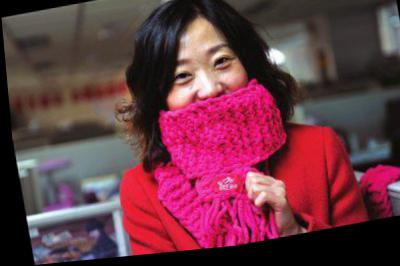WRONG: (149, 39, 258, 153)
